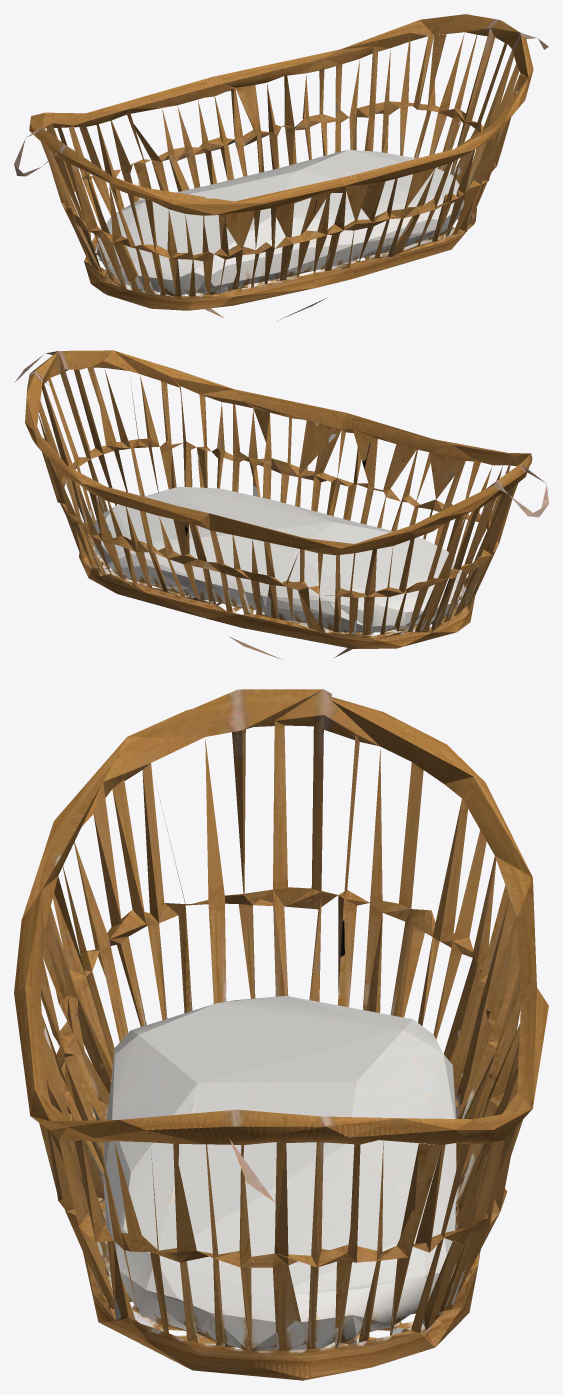
File: cradle.glb
3 views of the same model, one above another, from view 1: azimuth 30°, elevation 25°; view 2: azimuth 150°, elevation 25°; view 3: azimuth 270°, elevation 25° (orthographic). The views are drawn at different scales.
Visible parts, largest first — view 1: output_unwrapped; view 2: output_unwrapped; view 3: output_unwrapped.
Boxes of the visible parts, x1,y1,x2,y2 form: output_unwrapped: (14, 14, 548, 320); output_unwrapped: (14, 350, 548, 659); output_unwrapped: (14, 689, 548, 1380).
Size of the model in its own units: 1.89 by 0.8307 by 0.8876.
Materials: 1 (1 with a texture image).
